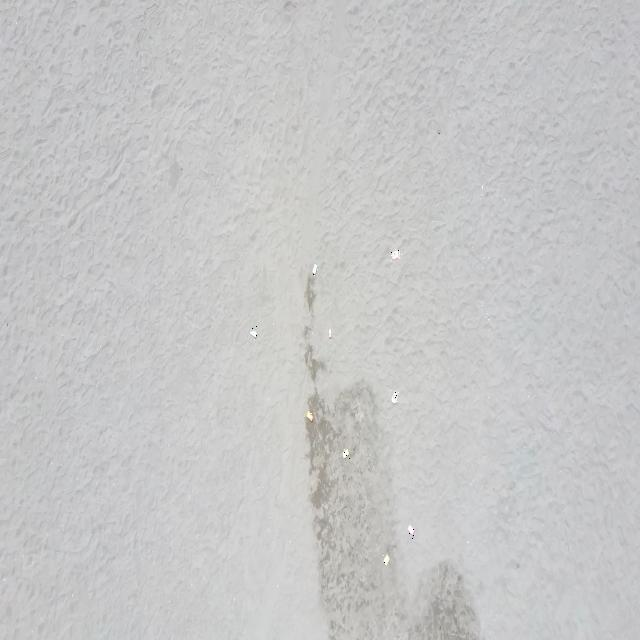Garbage: (304, 409, 312, 420), (407, 524, 413, 537), (391, 391, 397, 403), (391, 249, 399, 258), (249, 327, 256, 337), (383, 553, 388, 564), (312, 263, 316, 275), (344, 447, 348, 457), (328, 327, 331, 337)
